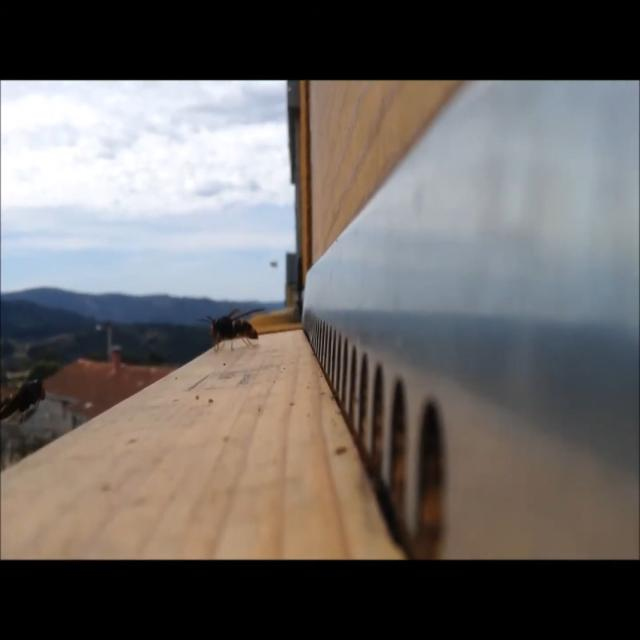Hornets: (199, 302, 267, 359)
